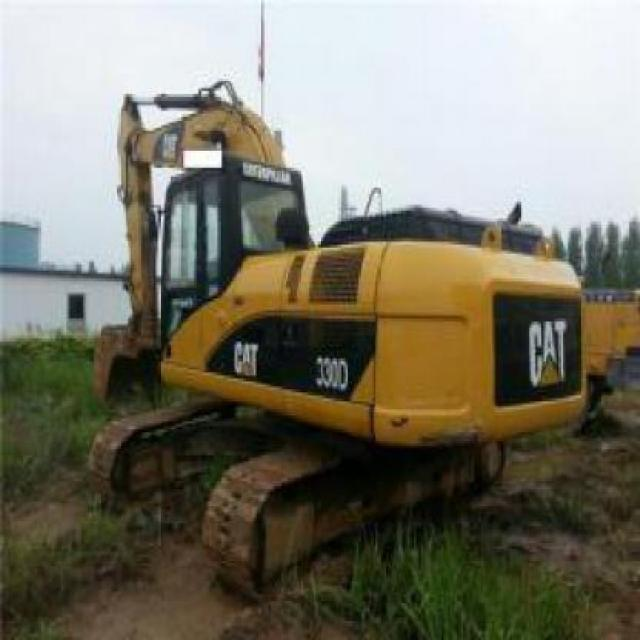Excavator: (80, 65, 592, 598)
